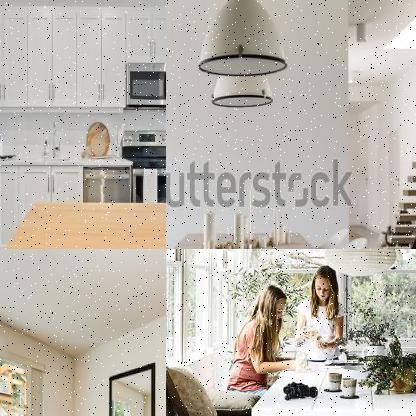table: (250, 352, 415, 415), (0, 197, 165, 248)
